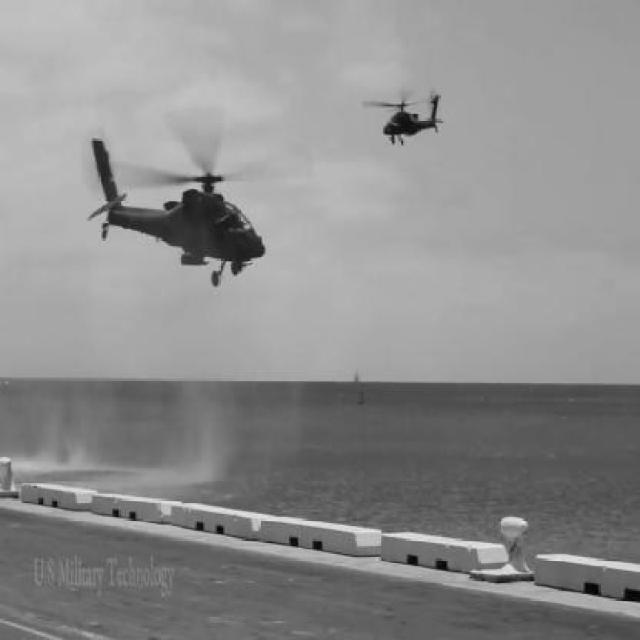Helicopter: (77, 105, 317, 288), (361, 86, 446, 148)
